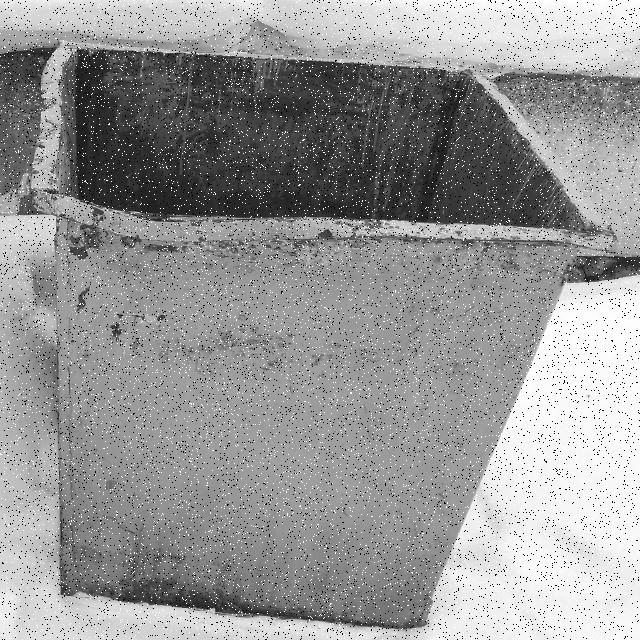Trashcan: (22, 6, 622, 636)
